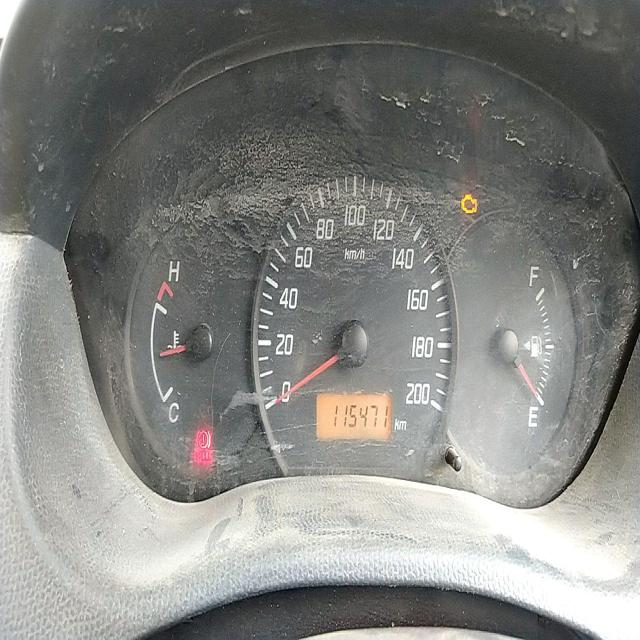odometer: (331, 400, 391, 437)
